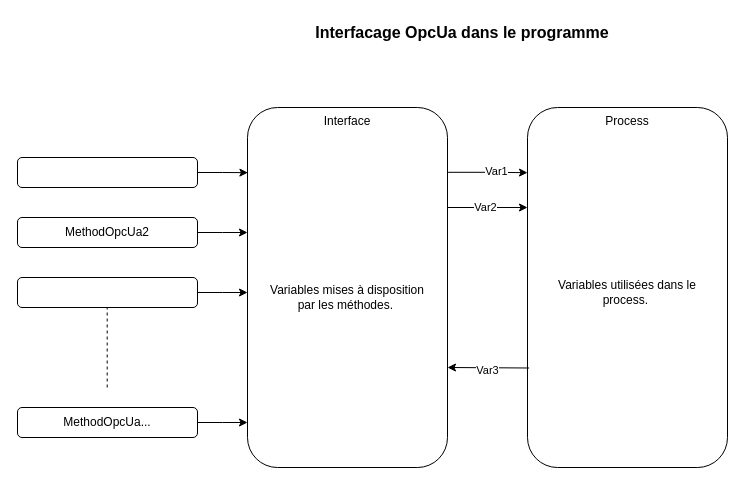
This 745x485 diagram has some shape labels left out. Each missing label, with the centre of its shape:
"MethodOpcUa1" belongs at (x=107, y=172).
"MethodOpcUa3" belongs at (x=107, y=292).
